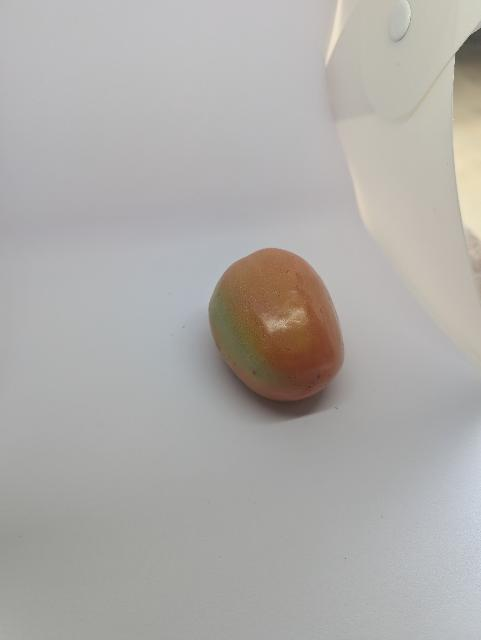turning: (197, 240, 370, 412)
